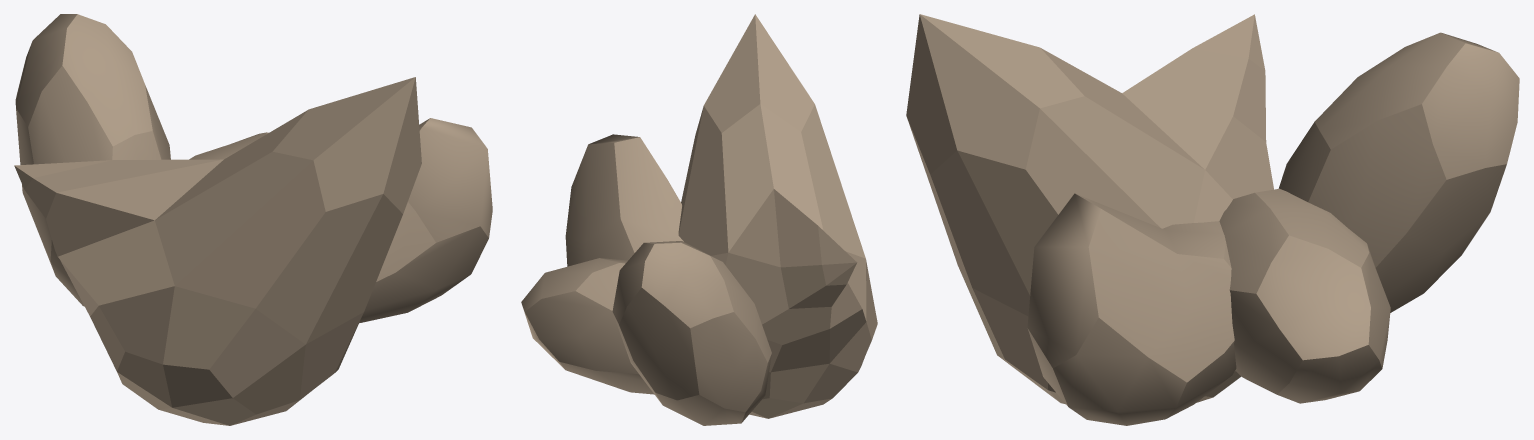
Rendered from rock1.fbx.
The picture shows the model from 3 angles, left to right: view 1: azimuth 30°, elevation 25°; view 2: azimuth 150°, elevation 25°; view 3: azimuth 270°, elevation 25°; orthographic projection. The views are drawn at different scales.
Visible parts, largest first — view 1: rock1; view 2: rock1; view 3: rock1.
Part boxes in pixels (box(x1,y1,x2,y2)): rock1: box(14, 14, 492, 425); rock1: box(521, 14, 877, 425); rock1: box(906, 14, 1519, 425).
Bounding box in the file's own units: 180 × 160 × 199.
